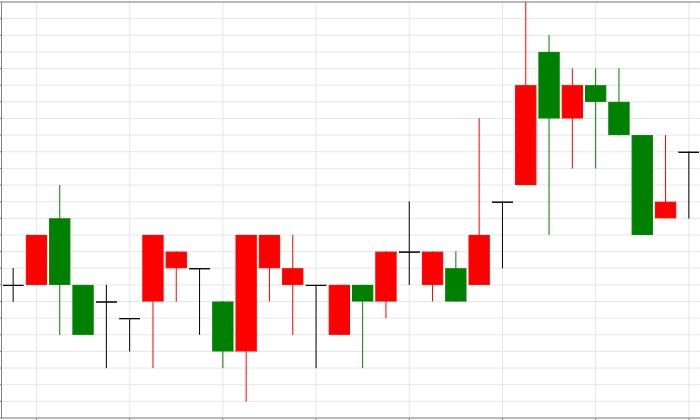bullish_engulfing_rise: (142, 234, 257, 401)
